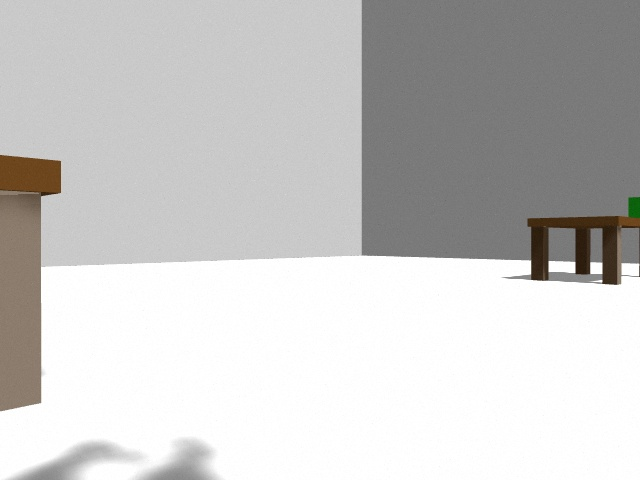green_cube: (628, 197, 640, 218)
